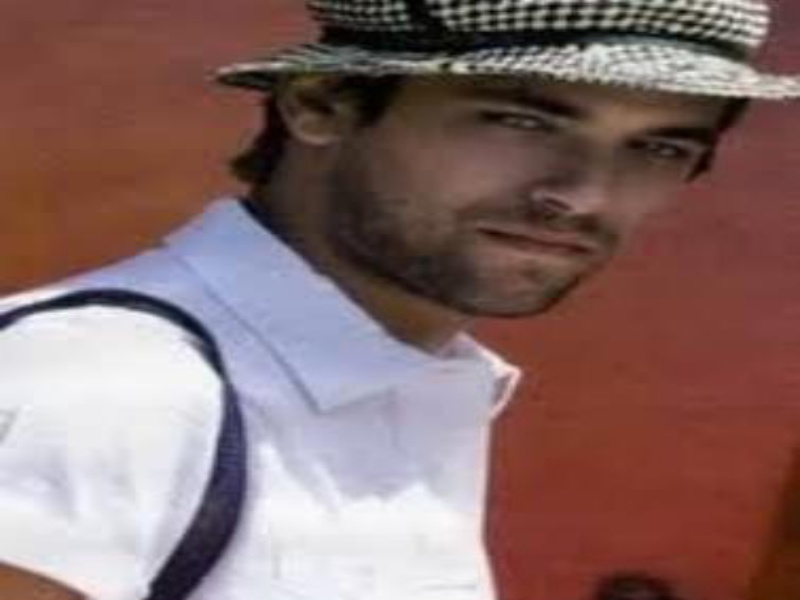TsisyArotava: (272, 1, 758, 335)
